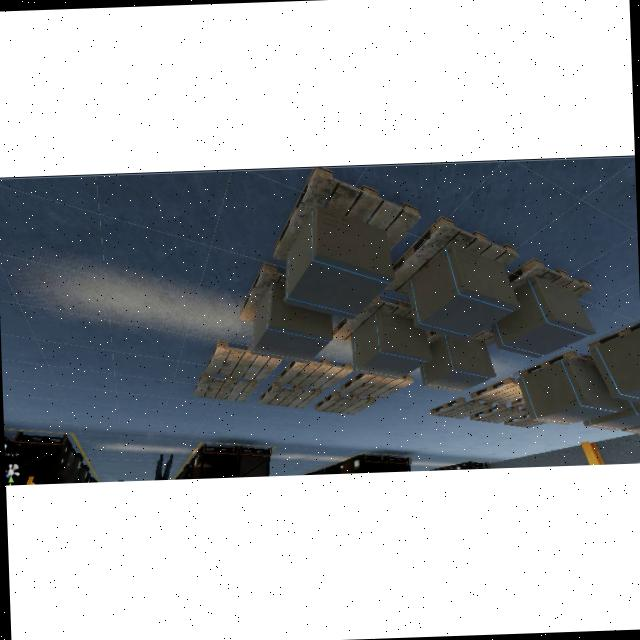wooden_pallet: (270, 167, 422, 259), (382, 217, 518, 298), (509, 255, 590, 299), (205, 338, 286, 381), (238, 258, 289, 321), (274, 359, 352, 390), (192, 370, 260, 403), (518, 350, 594, 377), (339, 372, 414, 398), (255, 383, 321, 410), (586, 321, 640, 349), (313, 392, 376, 416), (470, 377, 523, 405), (430, 398, 494, 419), (470, 405, 527, 424), (503, 413, 546, 429), (510, 397, 527, 409)
